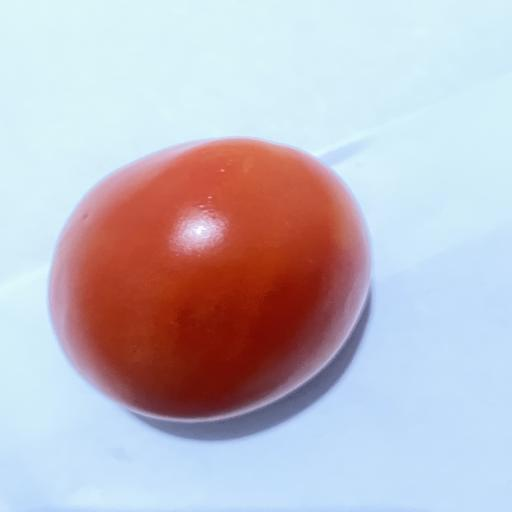ripe: (50, 138, 370, 421)
